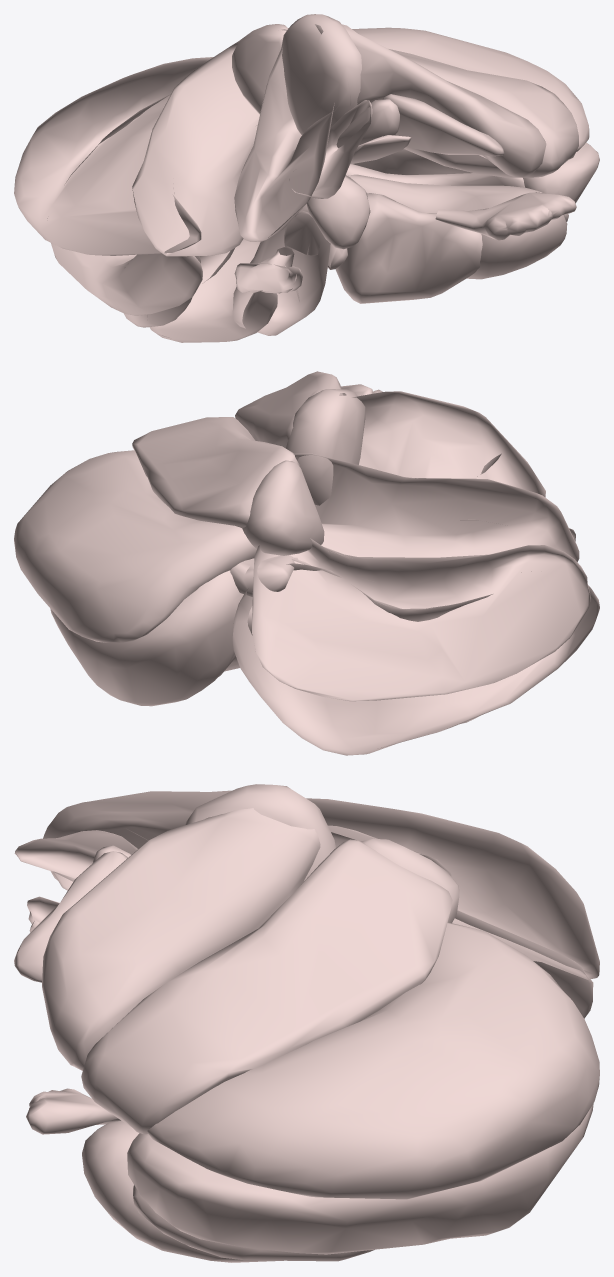
The model's file is zanatomy-cerebellum.glb.
3 views of the same model, one above another, from view 1: azimuth 30°, elevation 25°; view 2: azimuth 150°, elevation 25°; view 3: azimuth 270°, elevation 25° (orthographic). The views are drawn at different scales.
Parts seen in each view (by area): view 1: zb_cerebellum; view 2: zb_cerebellum; view 3: zb_cerebellum.
Part boxes in pixels (bbox=[...]): zb_cerebellum: bbox=[14, 14, 599, 342]; zb_cerebellum: bbox=[14, 371, 599, 755]; zb_cerebellum: bbox=[14, 784, 599, 1262].
Size of the model in its own units: 0.0982 by 0.0528 by 0.0709.
